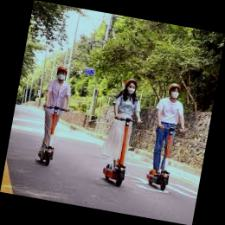helmet: (141, 81, 193, 194), (97, 75, 146, 188), (29, 62, 75, 169)
